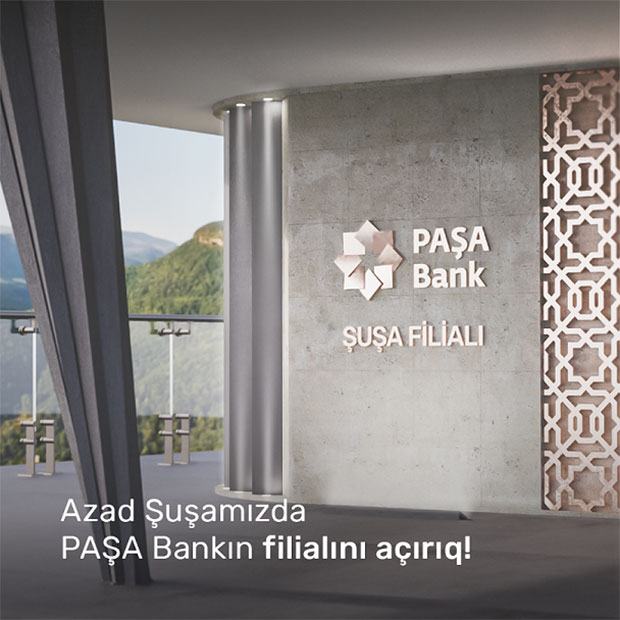Pasha Bank: (330, 218, 406, 306)
